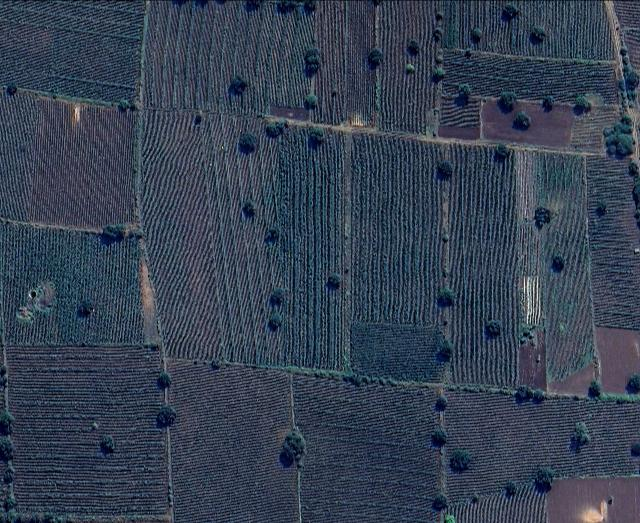EmptyFarms: (481, 96, 575, 151), (542, 477, 640, 523), (543, 103, 575, 151)
Farms: (270, 123, 520, 394), (140, 110, 276, 368), (5, 346, 170, 523), (440, 386, 640, 507), (291, 368, 443, 523), (163, 357, 299, 523), (142, 0, 314, 125), (0, 219, 162, 344), (0, 88, 142, 230), (0, 0, 147, 104), (536, 151, 597, 385), (439, 47, 621, 105), (442, 0, 616, 60), (587, 152, 640, 334), (375, 1, 441, 139), (312, 2, 374, 130)
